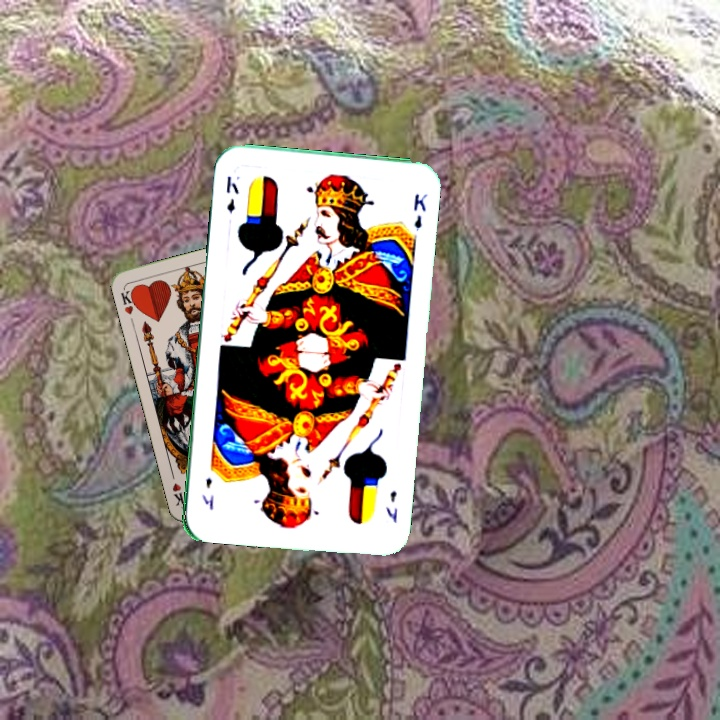EK: (222, 171, 242, 215), (382, 486, 400, 526)
HK: (117, 285, 140, 317)
